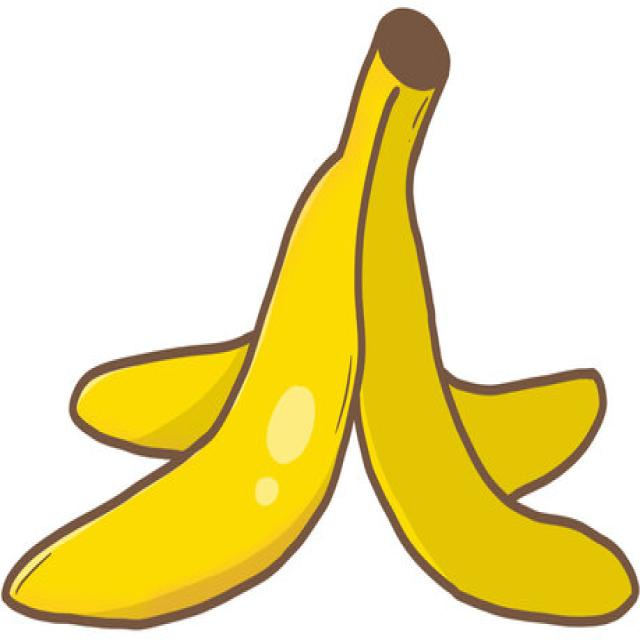banana_peel: (7, 0, 639, 638)
